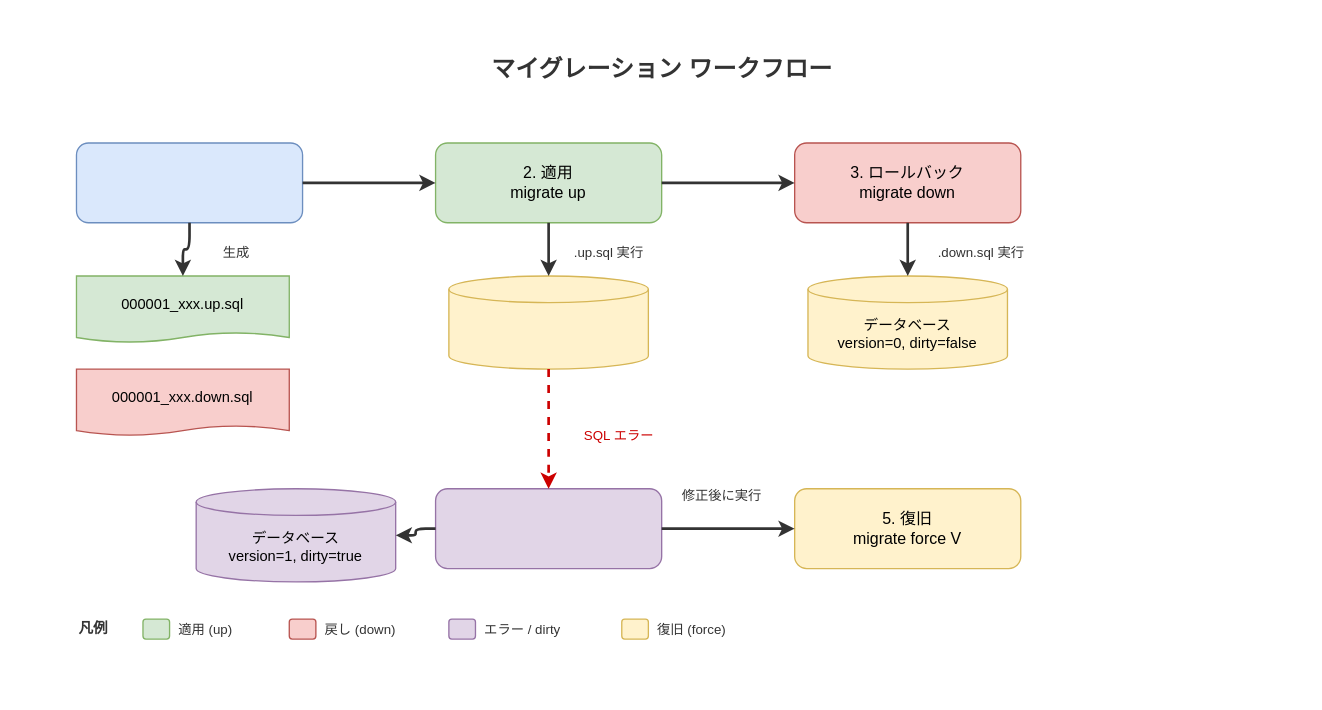
This 1322x710 diagram has some shape labels left out. The shapes that lost their labels are listed below. From the top down, each one's box as (x1, y1, x2, y2) in pixels, then its label:
(75, 142, 303, 223): 1. ファイル作成 migrate create
(448, 275, 648, 369): データベース version=1, dirty=false
(434, 487, 662, 569): 4. エラー発生時 dirty 状態
